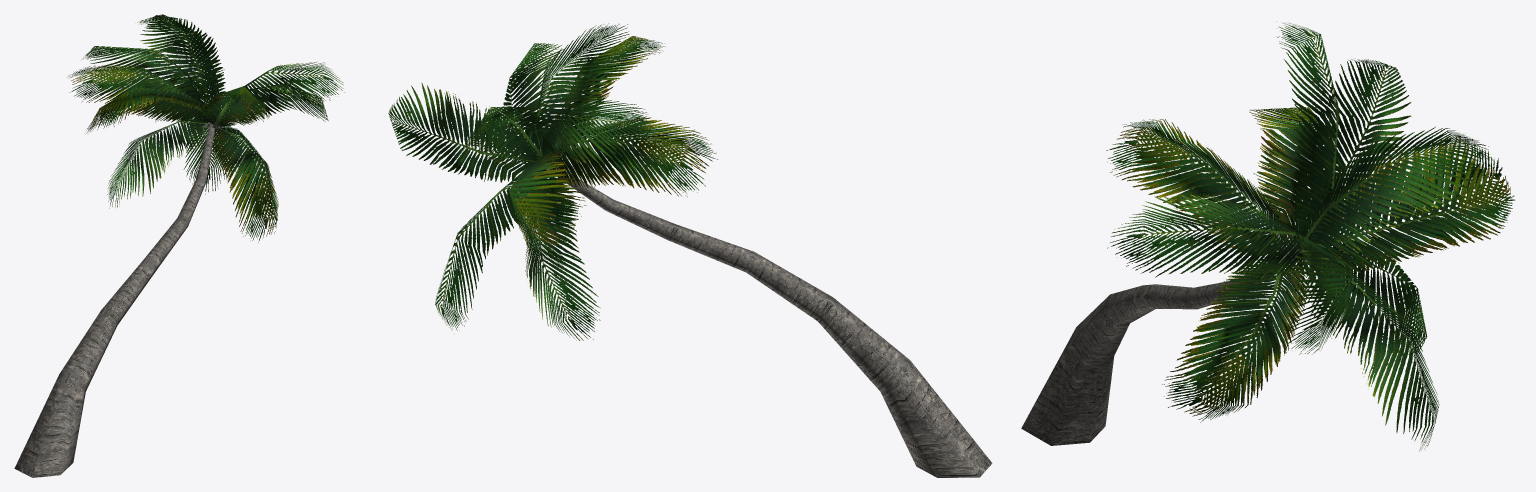
Rendered from palm4.obj.
The picture shows the model from 3 angles, left to right: view 1: azimuth 30°, elevation 25°; view 2: azimuth 150°, elevation 25°; view 3: azimuth 270°, elevation 25°; orthographic projection. The views are drawn at different scales.
Parts seen in each view (by area): view 1: palmt4_tga; view 2: palmt4_tga; view 3: palmt4_tga.
Part boxes in pixels (<box>): palmt4_tga: <box>14,14,344,477</box>; palmt4_tga: <box>388,23,992,477</box>; palmt4_tga: <box>1021,23,1515,450</box>.
Size of the model in its own units: 309 by 260 by 213.
